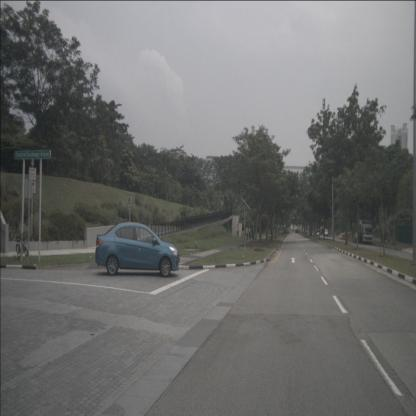human-pedestrian-adult: (245, 225, 249, 240), (248, 226, 251, 239)
vehicle-bicycle: (15, 231, 29, 262)
vehicle-car: (95, 222, 180, 277), (324, 229, 328, 237)
vehicle-truck: (352, 220, 374, 244)
